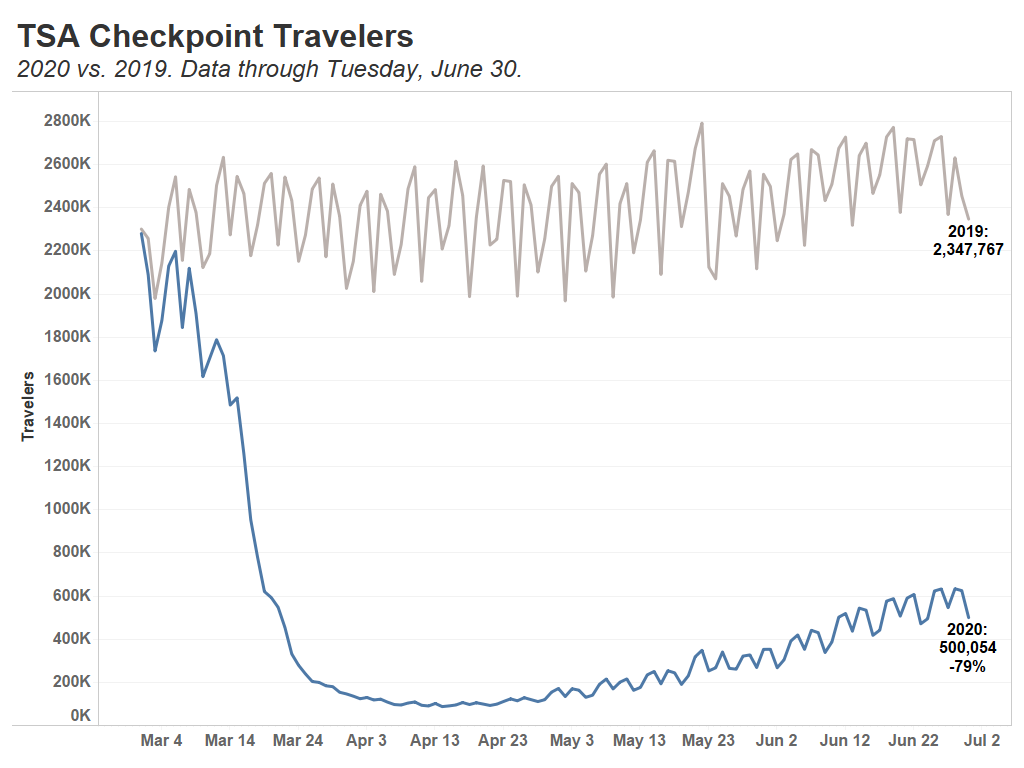

Layout of this report page (visuals, bound fields, positions):
{"tool":"tableau","page":{"name":"TSA Travelers","canvas":[1024,768],"ordinal":3},"visuals":[{"type":"worksheet","box":[0,0,1024,768]},{"type":"worksheet","title":"Travelers","mark":"Automatic","rows":["2019","2020"],"cols":["Date"],"box":[8,8,1008,752]}]}

Visuals, with their boxes in screenshot pixels (x1, y1, x2, y2), scaled from the page's 1024x768 canvas onto the 1024x768 screenshot:
worksheet: <region>0, 0, 1023, 767</region>
"Travelers" worksheet: <region>8, 8, 1016, 760</region>
